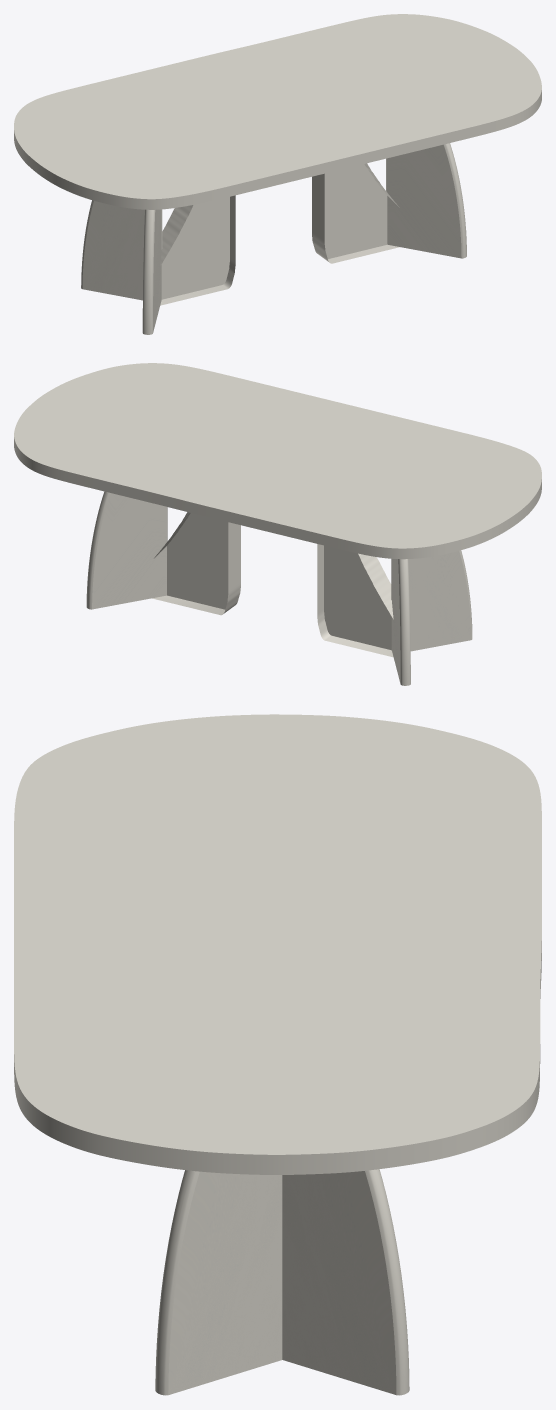
Rendered from pale_oval_standard_plane.glb.
The picture shows the model from 3 angles, top to bottom: view 1: azimuth 30°, elevation 25°; view 2: azimuth 150°, elevation 25°; view 3: azimuth 270°, elevation 25°; orthographic projection. The views are drawn at different scales.
Visible parts, largest first — view 1: standard_oval, plane_singleright2, plane_single1, plane_single2, plane_singleleft1, plane_singleright1; view 2: standard_oval, plane_singleleft2, plane_single1, plane_single2, plane_singleright1, plane_singleleft1; view 3: standard_oval, plane_singleleft2, plane_singleright2.
Boxes of the visible parts, x1,y1,x2,y2 form: standard_oval: [14, 14, 541, 209]; plane_singleright2: [386, 143, 466, 258]; plane_single1: [160, 195, 235, 305]; plane_single2: [312, 163, 399, 263]; plane_singleleft1: [81, 200, 162, 300]; plane_singleright1: [142, 209, 161, 334]; standard_oval: [14, 363, 541, 559]; plane_singleleft2: [86, 491, 167, 609]; plane_single1: [317, 544, 393, 657]; plane_single2: [152, 512, 240, 615]; plane_singleright1: [391, 550, 472, 651]; plane_singleleft1: [391, 559, 410, 685]; standard_oval: [14, 714, 541, 1174]; plane_singleleft2: [282, 1169, 409, 1395]; plane_singleright2: [155, 1170, 282, 1395].
Bounding box in the file's own units: 7.5 × 2.49 × 3.8.
1 material, 1 textured.
